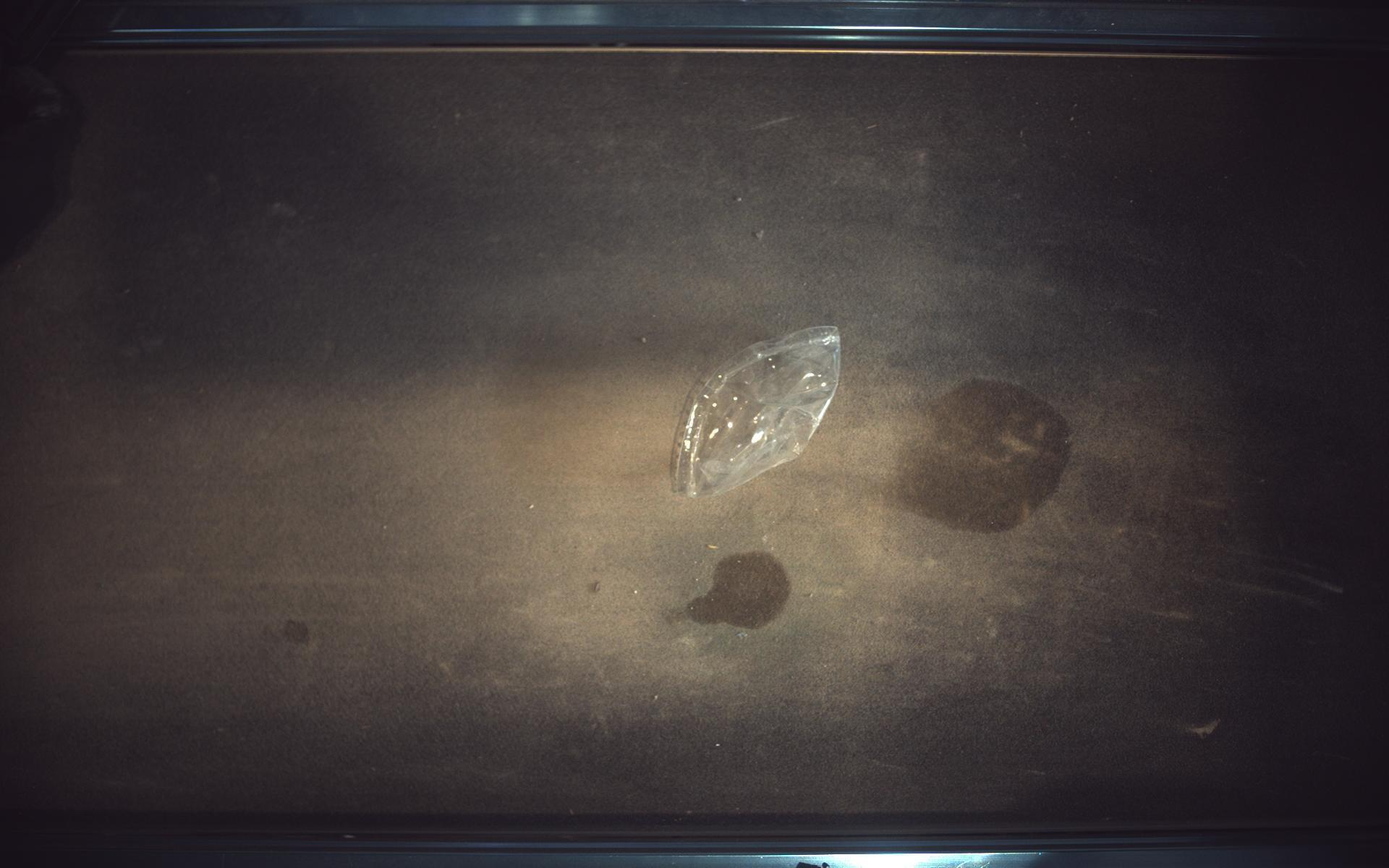general_w: (671, 327, 842, 498)
